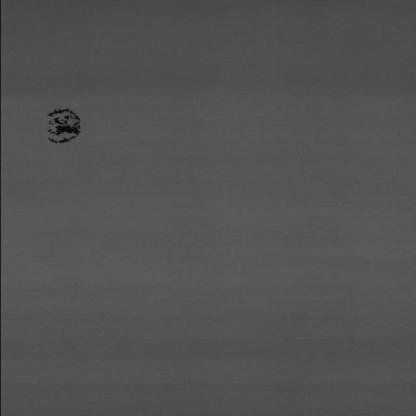inclusion: (33, 98, 108, 148)
